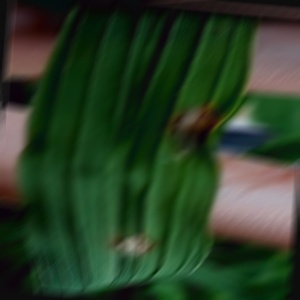Brown_Spot: (160, 84, 225, 167), (109, 219, 173, 264)
